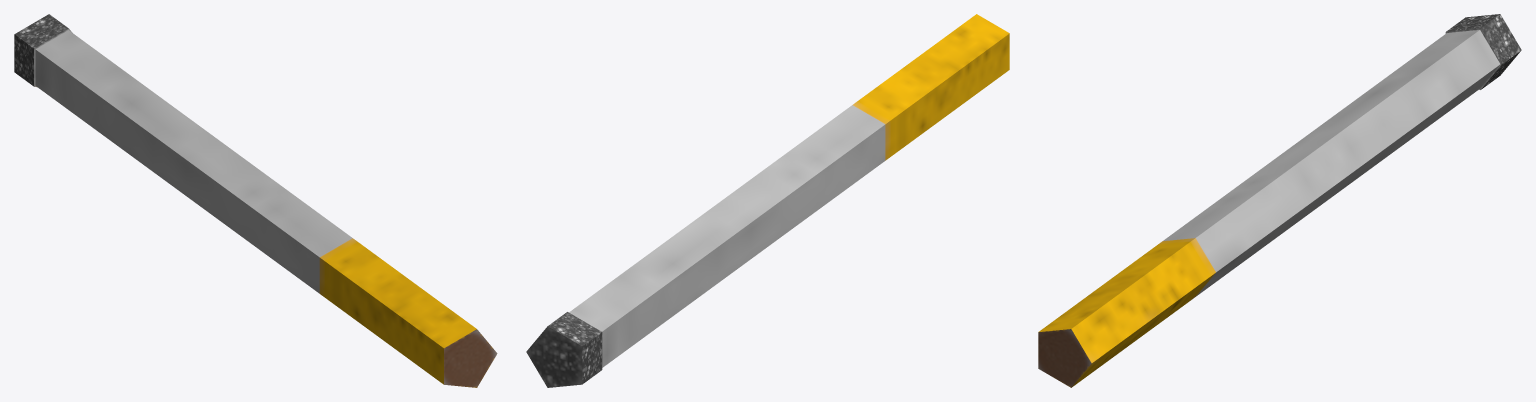
The model's file is cigarette.glb.
3 views of the same model, side by side, from view 1: azimuth 30°, elevation 25°; view 2: azimuth 150°, elevation 25°; view 3: azimuth 330°, elevation 25° (orthographic).
Visible parts, largest first — view 1: cigarette_geo, filter_geo, ember_geo; view 2: cigarette_geo, filter_geo, ember_geo; view 3: cigarette_geo, filter_geo, ember_geo.
Boxes of the visible parts, x1,y1,x2,y2 form: cigarette_geo: (35,30,352,293); filter_geo: (319,238,497,387); ember_geo: (14,14,72,86); cigarette_geo: (569,105,885,367); filter_geo: (853,14,1009,160); ember_geo: (526,312,602,387); cigarette_geo: (1163,30,1500,296); filter_geo: (1038,238,1215,387); ember_geo: (1445,14,1521,89).
Bounding box in the file's own units: 0.00258 × 0.00271 × 0.0341.
Materials: 3 (3 with a texture image).
